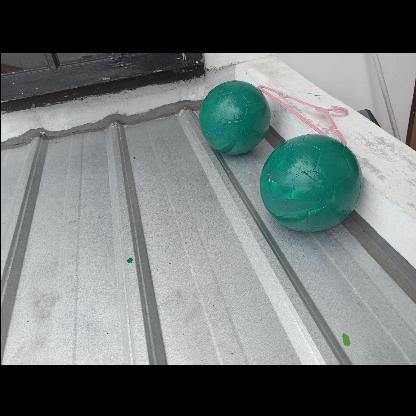green_ball: (260, 132, 360, 233), (196, 80, 268, 152)
